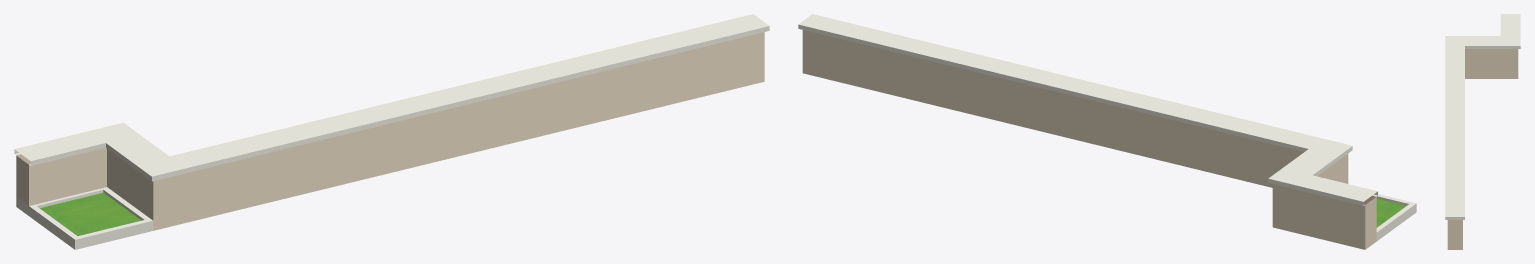
The model's file is fbx_school_fence2.fbx.
The picture shows the model from 3 angles, left to right: view 1: azimuth 30°, elevation 25°; view 2: azimuth 150°, elevation 25°; view 3: azimuth 270°, elevation 25°; orthographic projection. The views are drawn at different scales.
Parts seen in each view (by area): view 1: fbx_school_fence2; view 2: fbx_school_fence2; view 3: fbx_school_fence2.
Part boxes in pixels (x1,y1,x2,y2): fbx_school_fence2: [14, 14, 769, 249]; fbx_school_fence2: [798, 14, 1416, 249]; fbx_school_fence2: [1445, 14, 1520, 249].
Size of the model in its own units: 24.22 by 1.88 by 3.79.
2 materials, 2 textured.
